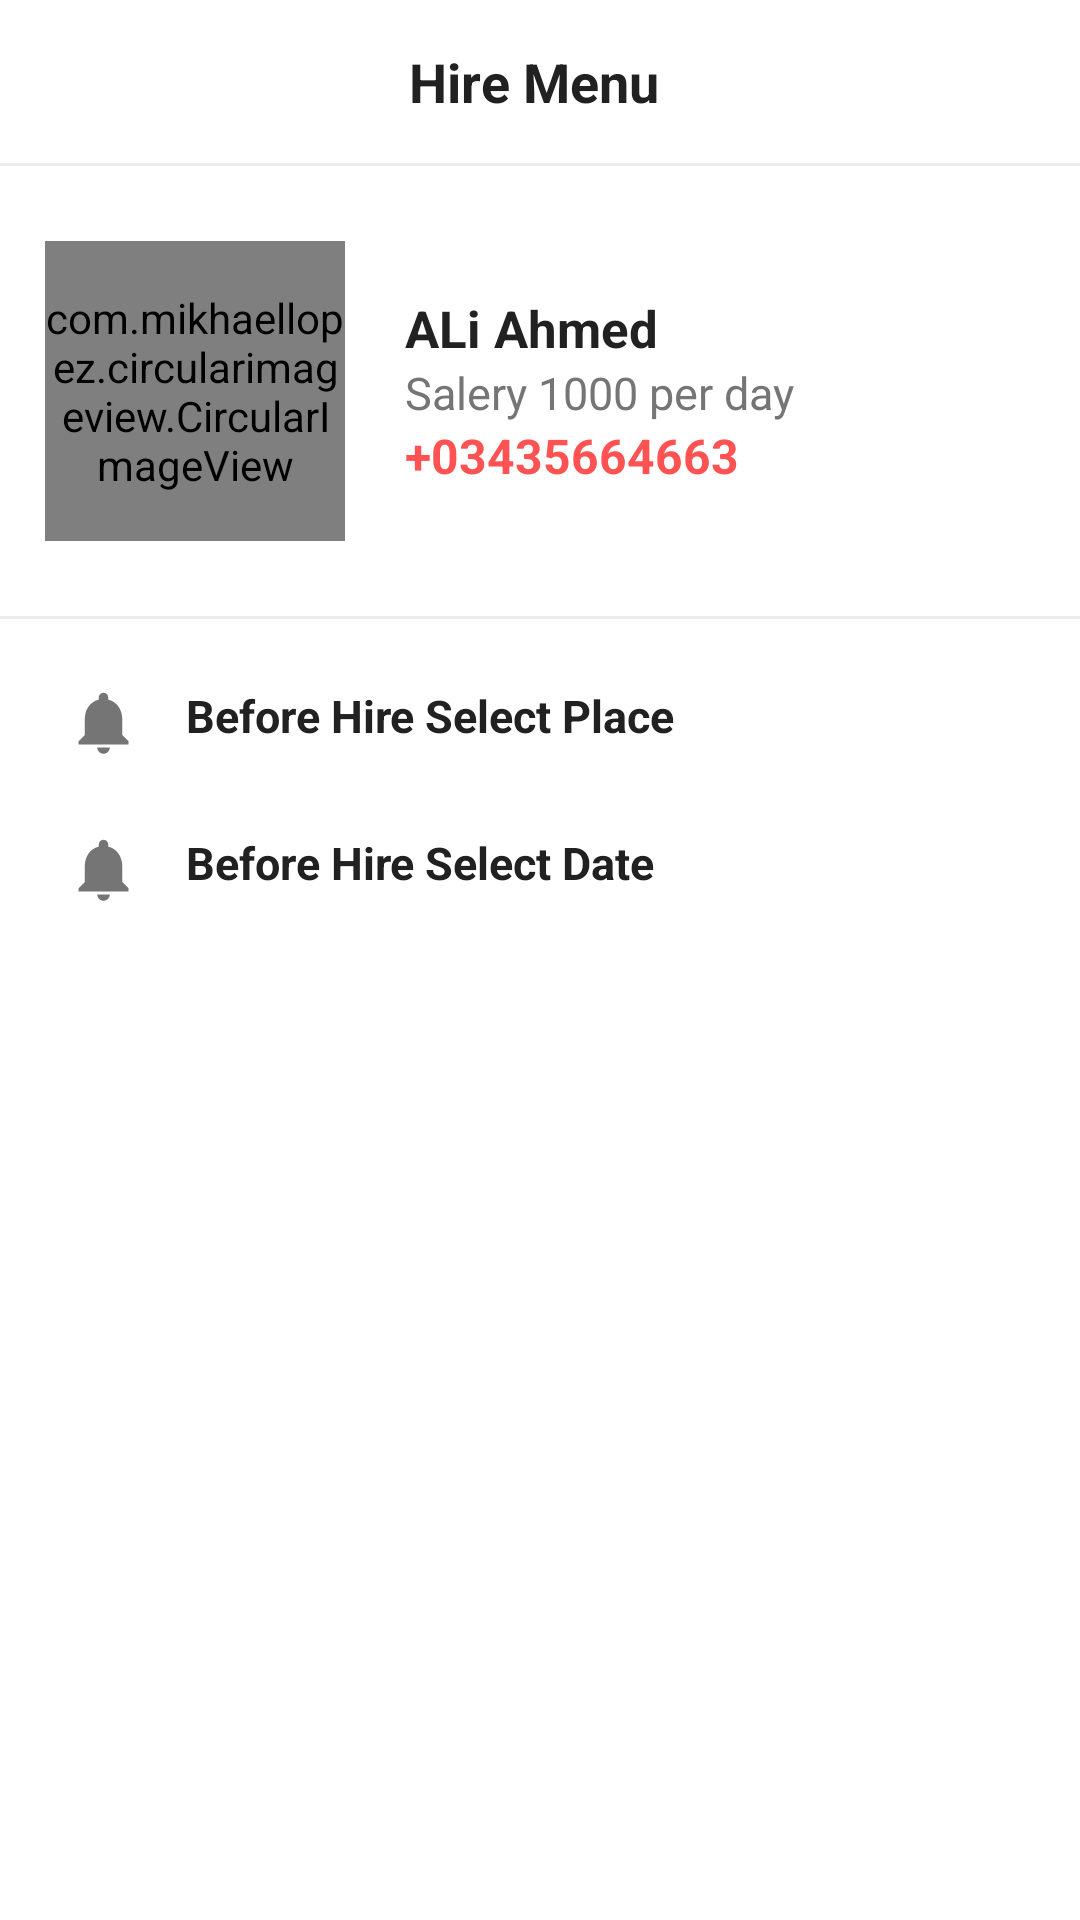

Icon bounding boxes for this 1080px×1920px phone screenshot, format (x1, y1, x2, y2):
notifications: (78, 692, 129, 754), (78, 839, 129, 901)
